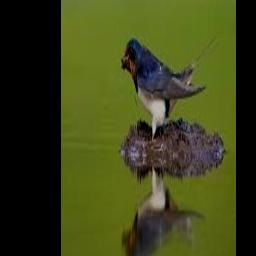Swallow: (122, 37, 218, 141)
